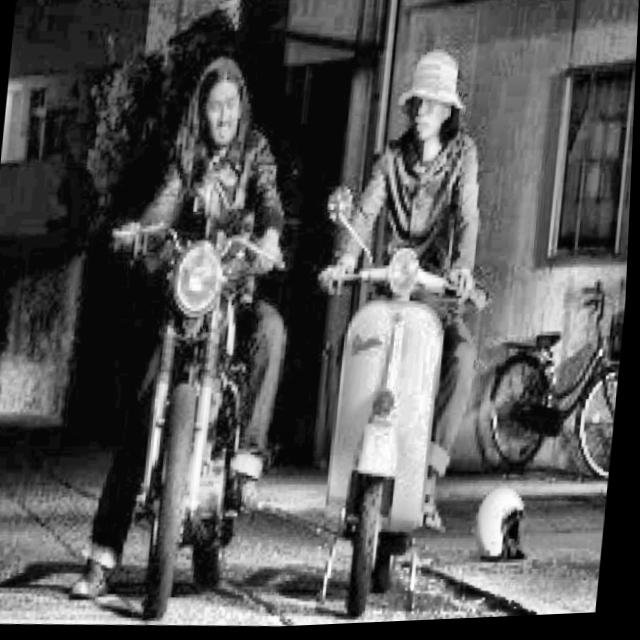motorcycle: (285, 181, 516, 626), (73, 193, 300, 622)
